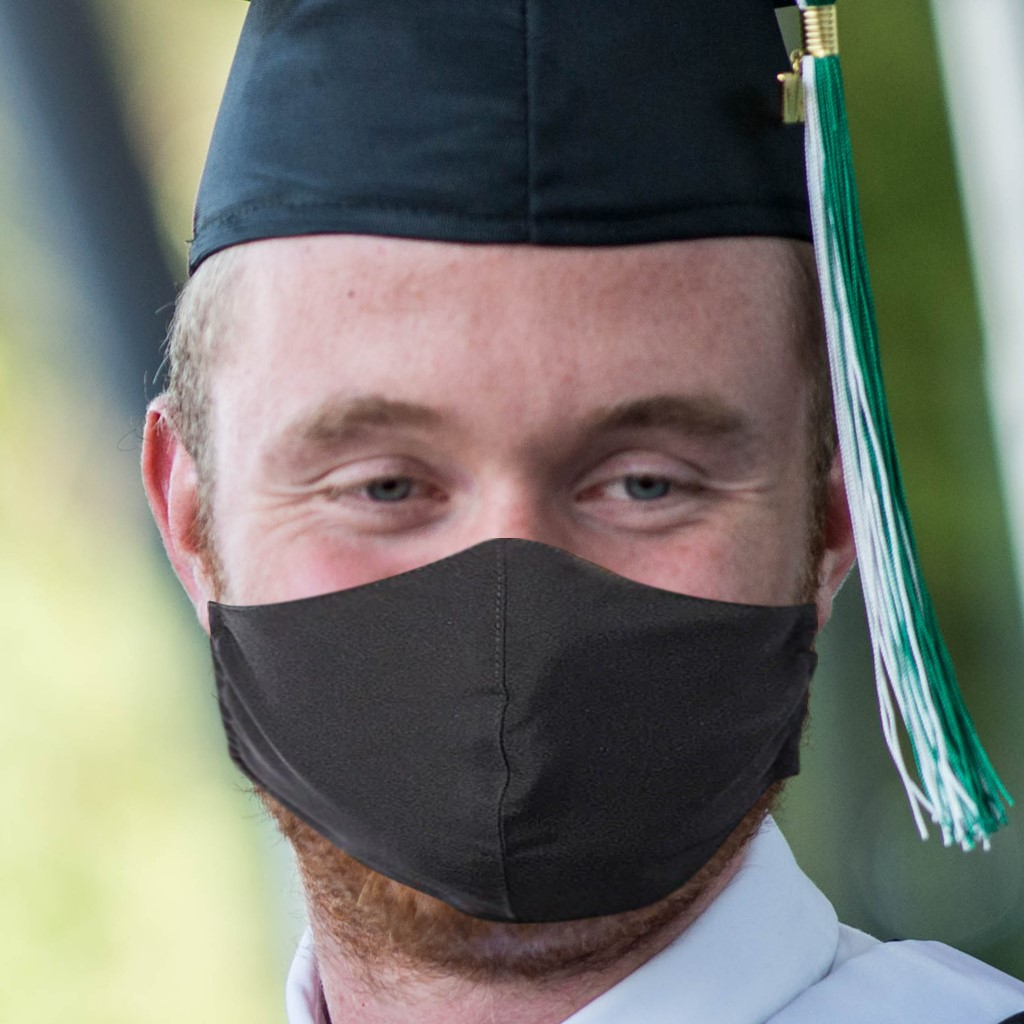con_mascara: (164, 188, 846, 946)
